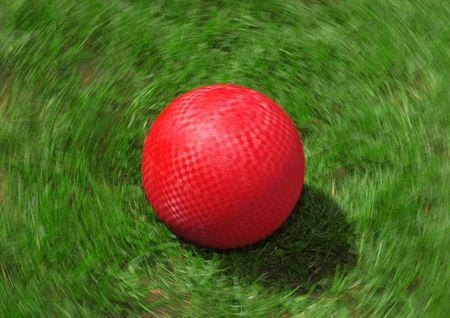Red_Ball: (132, 83, 315, 261)
